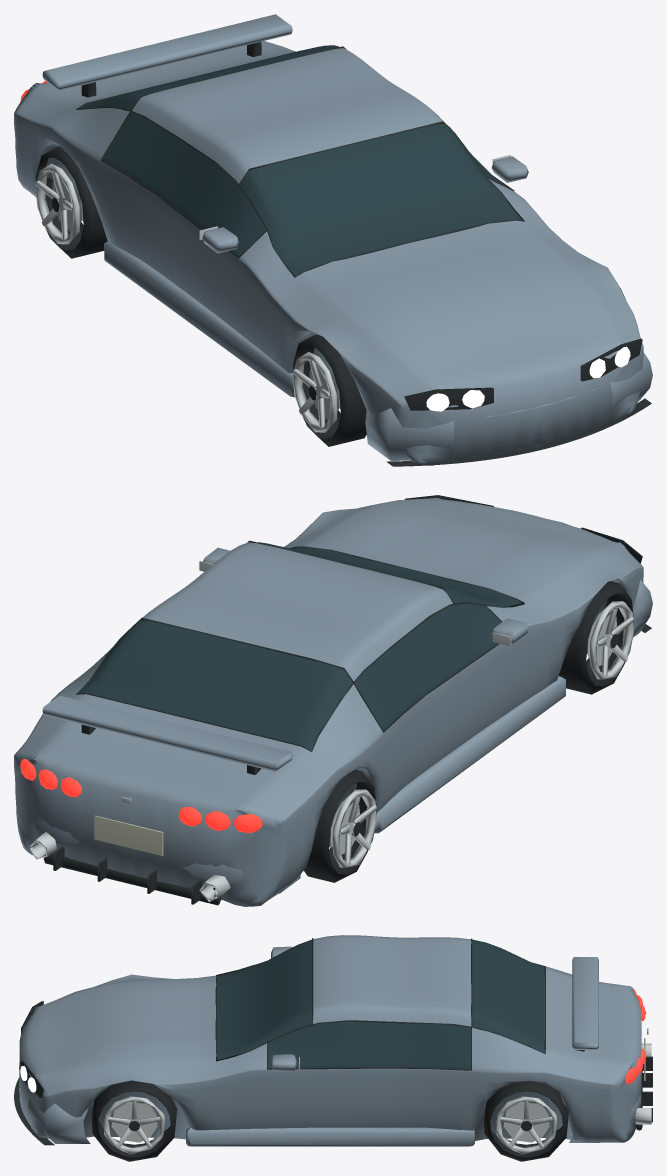
Rendered from arqessa-pelvan.glb.
The picture shows the model from 3 angles, top to bottom: view 1: azimuth 30°, elevation 25°; view 2: azimuth 150°, elevation 25°; view 3: azimuth 270°, elevation 25°; orthographic projection. The views are drawn at different scales.
Parts seen in each view (by area): view 1: scocca, cofano, cristallo_ant, tetto, porta_sx, cristallo_sx, spoiler, minigonna_sx, portellone, paraurti_ant, ruota_ant_sx_gomma, ruota_post_sx_gomma (+13 smaller); view 2: scocca, tetto, cristallo_post, cofano, portellone, porta_sx, cristallo_sx, spoiler, minigonna_sx, ruota_ant_sx_gomma, ruota_post_sx_gomma, cristallo_ant (+11 smaller); view 3: scocca, cofano, tetto, porta_dx, cristallo_dx, cristallo_ant, cristallo_post, portellone, minigonna_dx, spoiler, ruota_ant_dx_gomma, ruota_post_dx_gomma (+12 smaller).
Boxes of the visible parts, x1,y1,x2,y2 form: scocca: (14, 41, 643, 465); cofano: (295, 220, 620, 381); cristallo_ant: (240, 123, 522, 276); tetto: (132, 48, 443, 183); porta_sx: (100, 161, 253, 344); cristallo_sx: (102, 112, 266, 256); spoiler: (42, 14, 292, 90); minigonna_sx: (104, 241, 294, 397); portellone: (28, 41, 294, 109); paraurti_ant: (365, 352, 652, 460); ruota_ant_sx_gomma: (293, 334, 366, 446); ruota_post_sx_gomma: (35, 146, 107, 258); scocca: (14, 497, 643, 906); tetto: (142, 542, 452, 681); cristallo_post: (77, 620, 352, 751); cofano: (298, 499, 620, 603); portellone: (28, 694, 311, 813); porta_sx: (377, 636, 524, 812); cristallo_sx: (354, 603, 501, 730); spoiler: (42, 695, 292, 771); minigonna_sx: (374, 676, 565, 833); ruota_ant_sx_gomma: (558, 581, 633, 694); ruota_post_sx_gomma: (304, 770, 376, 882); cristallo_ant: (257, 542, 521, 606); scocca: (19, 966, 641, 1142); cofano: (42, 976, 216, 1078); tetto: (313, 935, 471, 1026); porta_dx: (251, 1068, 471, 1130); cristallo_dx: (268, 1021, 470, 1069); cristallo_ant: (216, 939, 312, 1059); cristallo_post: (472, 939, 544, 1053); portellone: (545, 967, 641, 1069); minigonna_dx: (186, 1127, 474, 1146); spoiler: (572, 957, 598, 1049); ruota_ant_dx_gomma: (91, 1080, 176, 1161); ruota_post_dx_gomma: (484, 1081, 568, 1161).
Size of the model in its own units: 2.17 by 1.21 by 5.04.
